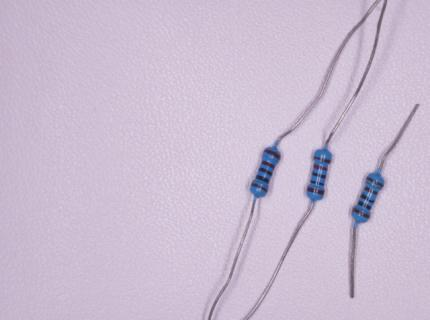Black band: (357, 200, 372, 211), (361, 194, 375, 204), (256, 175, 269, 184), (258, 168, 272, 176)
Brown band: (352, 207, 370, 219), (264, 149, 281, 160), (367, 177, 384, 187), (252, 183, 268, 193), (364, 185, 378, 196), (261, 161, 276, 169)
